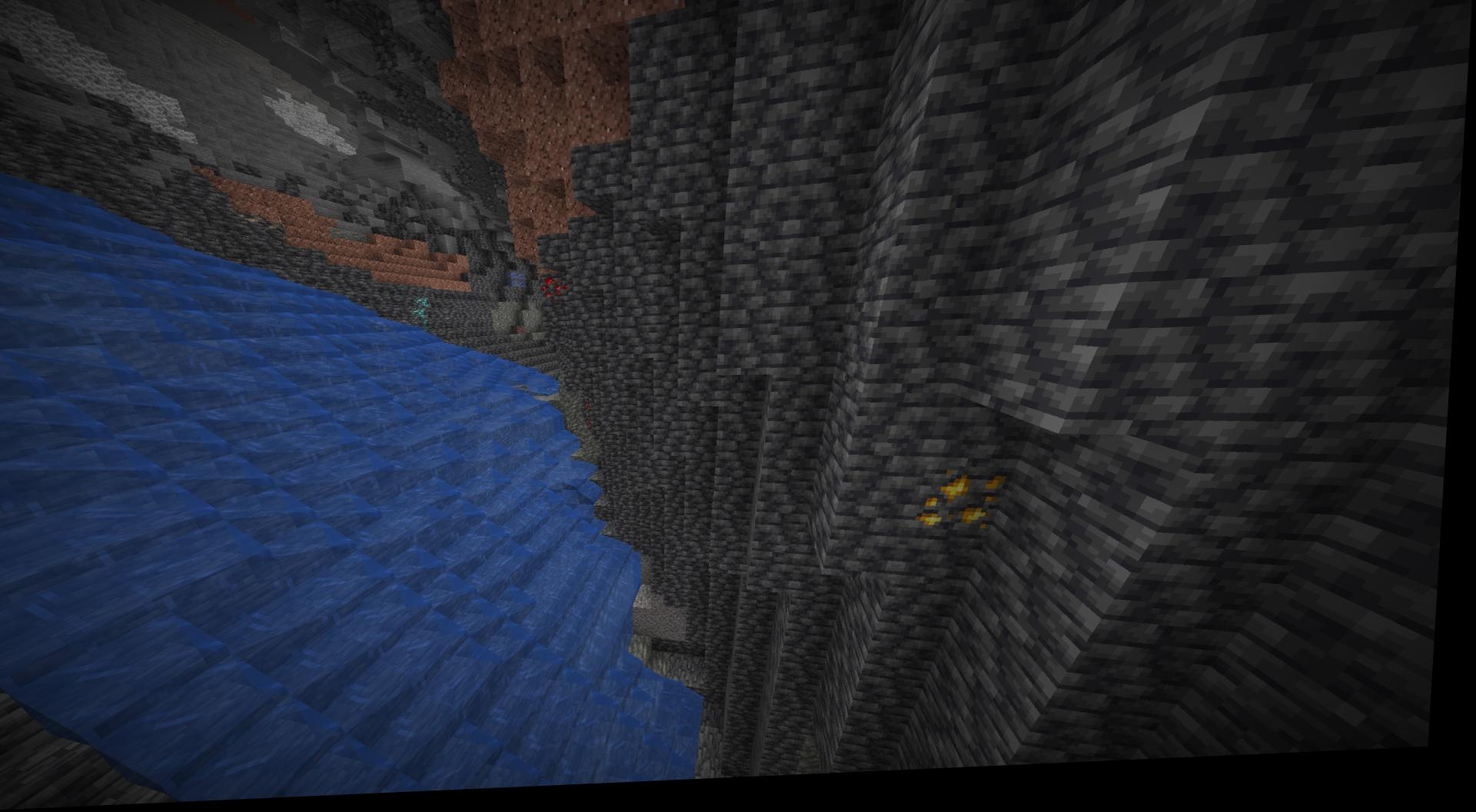diamond ore: (418, 299, 437, 329)
gold ore: (922, 469, 1011, 550)
redstone ore: (545, 280, 576, 303)
